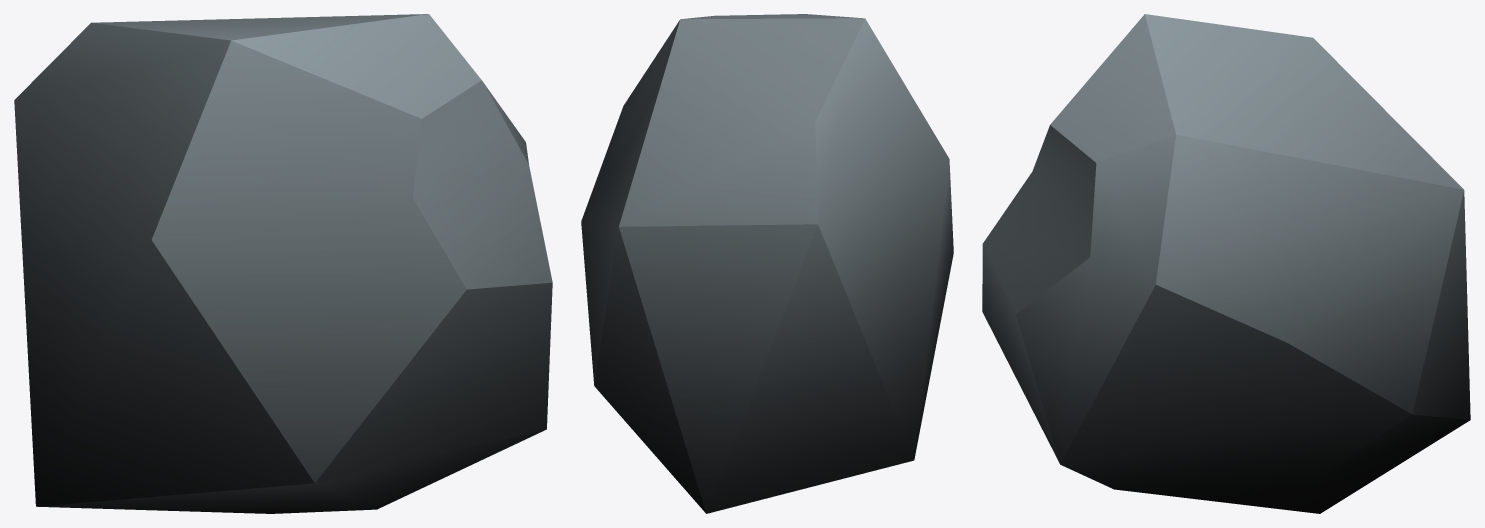
File: rock6.fbx
The picture shows the model from 3 angles, left to right: view 1: azimuth 30°, elevation 25°; view 2: azimuth 150°, elevation 25°; view 3: azimuth 270°, elevation 25°; orthographic projection. The views are drawn at different scales.
Visible parts, largest first — view 1: rock2; view 2: rock2; view 3: rock2.
Part boxes in pixels (x1=…): rock2: x1=14, y1=14, x2=552, y2=513; rock2: x1=581, y1=14, x2=953, y2=513; rock2: x1=982, y1=14, x2=1470, y2=513.
Size of the model in its own units: 490 by 601 by 583.
